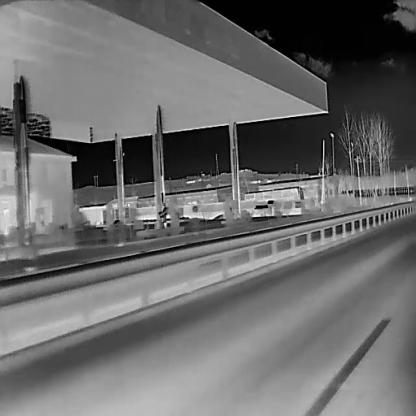bus: (243, 184, 306, 202)
